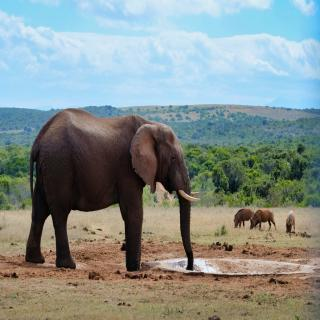Elephant: (21, 105, 202, 281)
